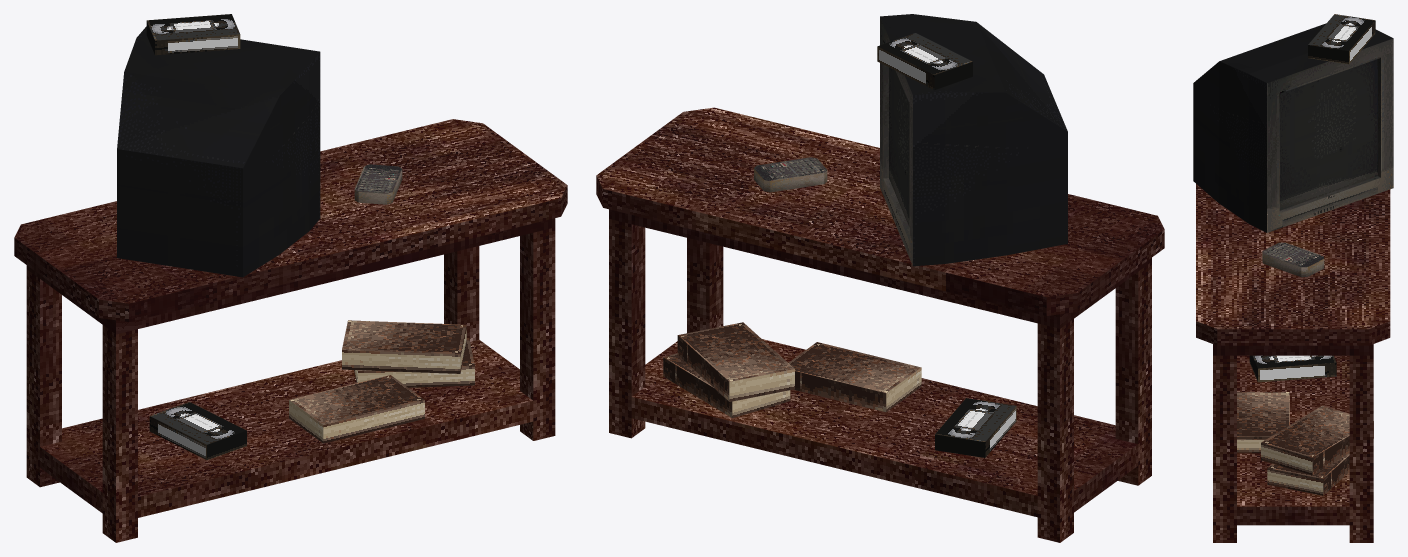
The model's file is TVUnit.glb.
3 views of the same model, side by side, from view 1: azimuth 30°, elevation 25°; view 2: azimuth 150°, elevation 25°; view 3: azimuth 270°, elevation 25° (orthographic). The views are drawn at different scales.
Parts seen in each view (by area): view 1: TVTable, TV, Book, Book.001, Caset.001, Caset, Book.002, Controller; view 2: TVTable, TV, Book, Book.001, Caset.001, Caset, Book.002, Controller; view 3: TVTable, TV, Book, Book.001, Caset, Caset.001, Book.002, Controller.
Boxes of the visible parts, box(x1,y1,x2,y2) form: TVTable: box(14, 119, 567, 542); TV: box(117, 26, 320, 277); Book: box(342, 320, 466, 373); Book.001: box(289, 375, 424, 443); Caset.001: box(149, 402, 246, 459); Caset: box(146, 14, 240, 55); Book.002: box(354, 338, 474, 387); Controller: box(354, 164, 402, 204); TVTable: box(596, 107, 1164, 542); TV: box(880, 14, 1067, 266); Book: box(677, 322, 794, 401); Book.001: box(788, 342, 921, 412); Caset.001: box(935, 398, 1016, 457); Caset: box(877, 33, 972, 90); Book.002: box(663, 353, 790, 417); Controller: box(754, 157, 827, 192); TVTable: box(1196, 184, 1390, 542); TV: box(1193, 23, 1393, 232); Book: box(1261, 405, 1373, 475); Book.001: box(1237, 392, 1289, 453); Caset: box(1308, 14, 1375, 64); Caset.001: box(1249, 355, 1336, 382); Book.002: box(1267, 453, 1349, 495); Controller: box(1262, 242, 1324, 277).
Size of the model in its own units: 1 by 0.87 by 0.4125.
4 materials, 4 textured.
